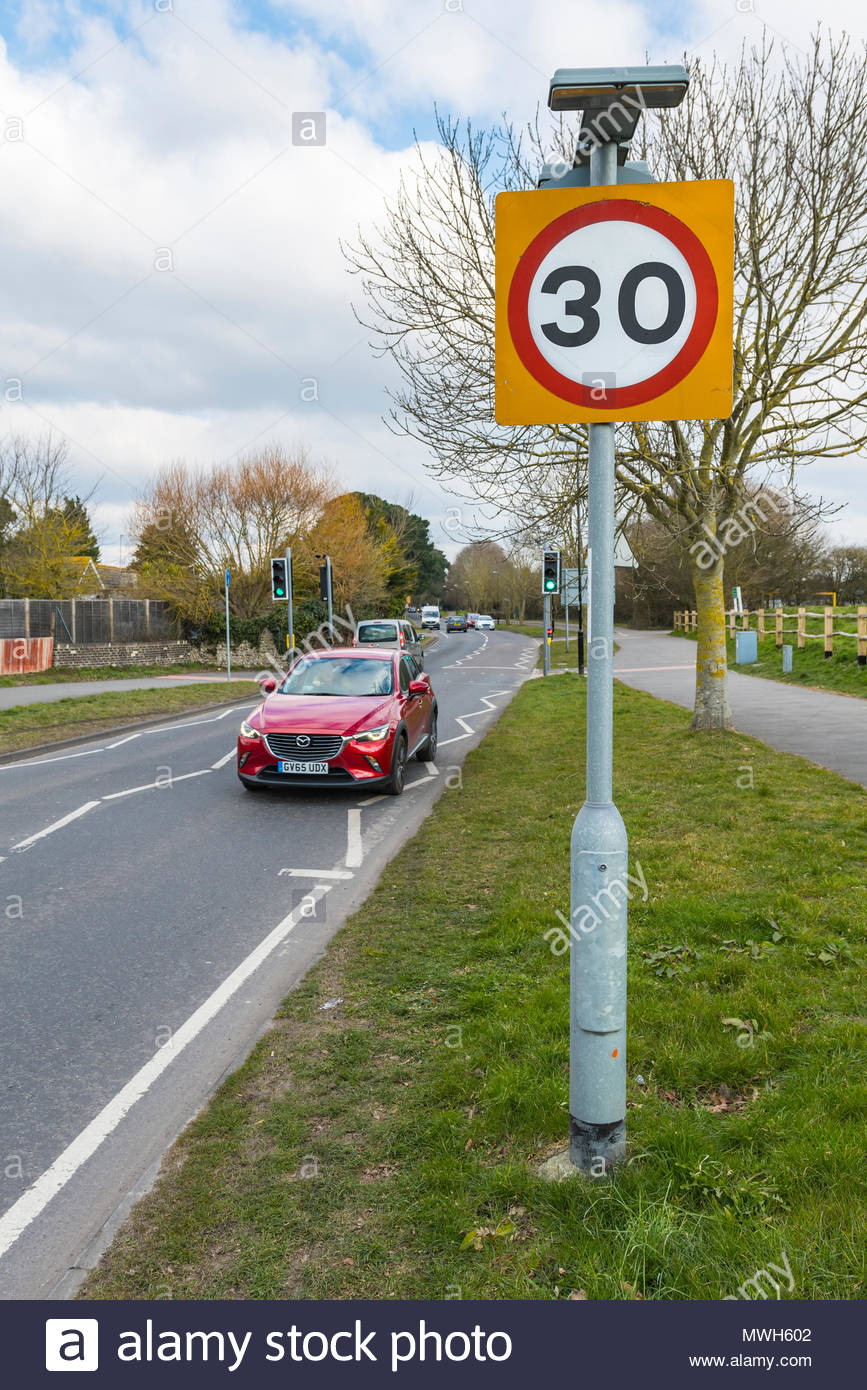speed_limit_30: (513, 202, 715, 411)
